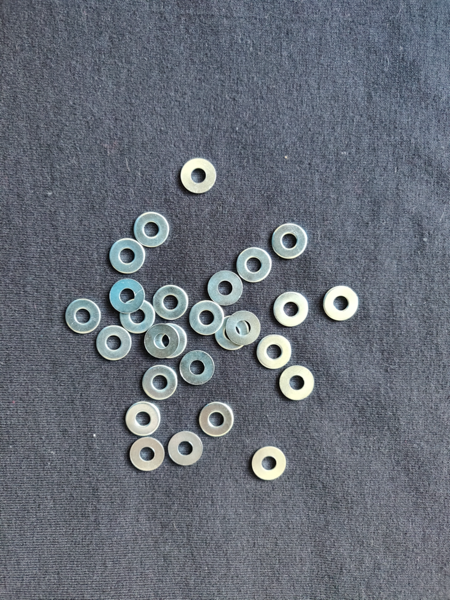circle: (140, 363, 181, 403), (271, 291, 311, 332), (64, 294, 102, 337), (249, 444, 289, 484), (118, 296, 158, 335), (278, 364, 318, 403), (206, 270, 246, 308), (177, 158, 218, 195), (123, 400, 161, 439), (133, 210, 171, 249), (271, 222, 309, 261), (177, 350, 216, 388), (168, 430, 206, 469), (94, 323, 131, 363), (324, 283, 361, 322), (199, 401, 238, 437), (236, 247, 273, 284), (189, 300, 225, 338), (149, 324, 188, 359), (129, 437, 166, 473), (153, 284, 189, 321), (110, 238, 147, 274), (258, 334, 294, 371), (145, 323, 180, 359), (214, 315, 250, 350), (110, 280, 145, 313), (228, 310, 260, 346)
